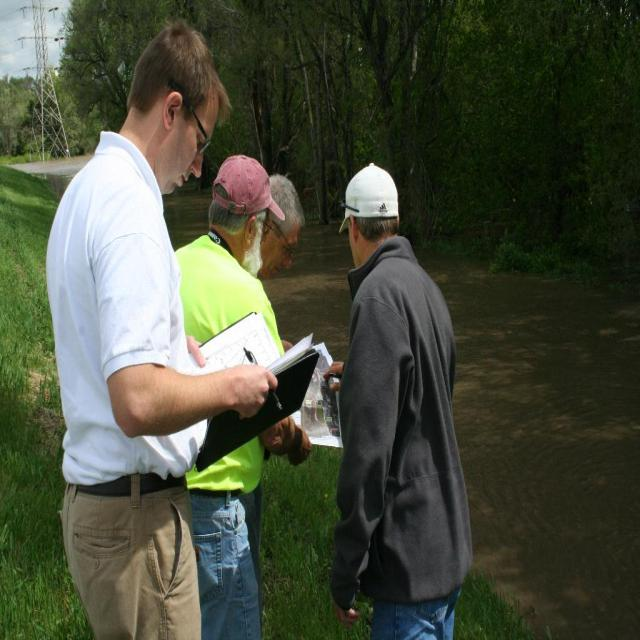Hat: (214, 146, 286, 222), (339, 160, 400, 234)
